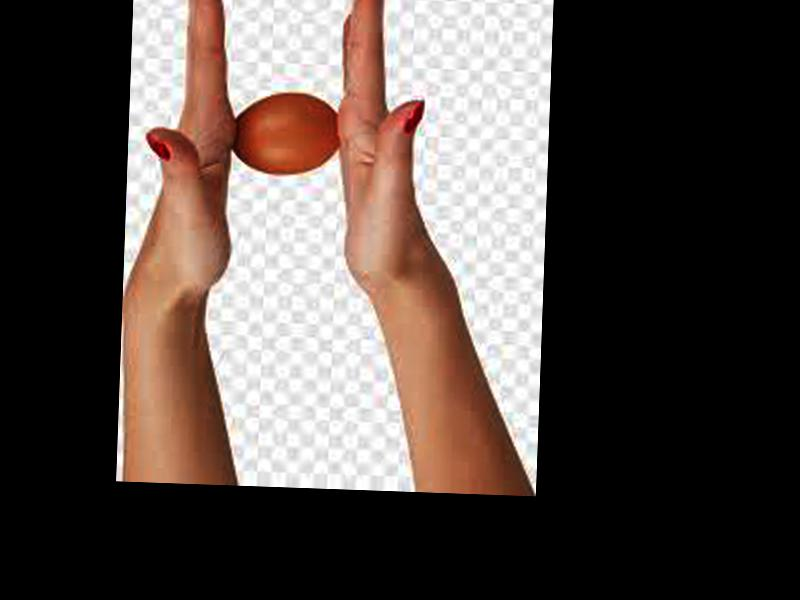Eggs: (233, 93, 341, 176)
